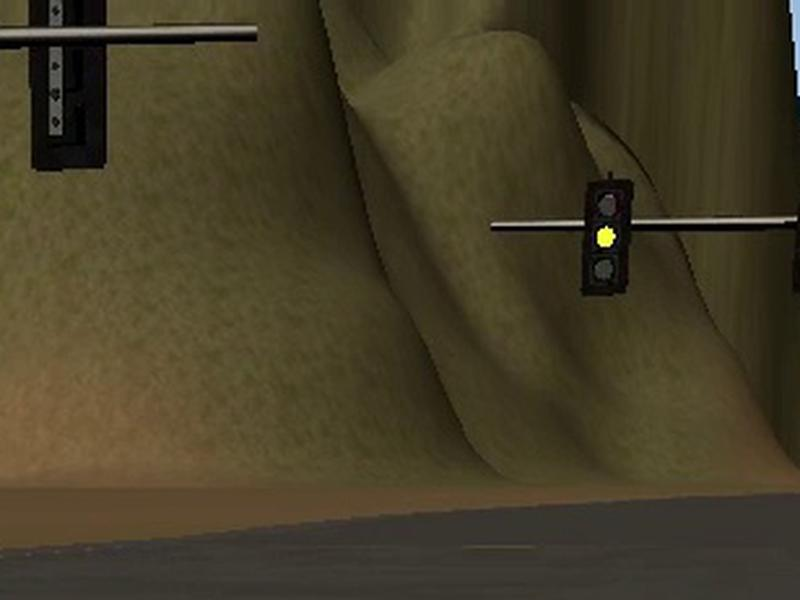Yellow: (579, 178, 636, 297)
